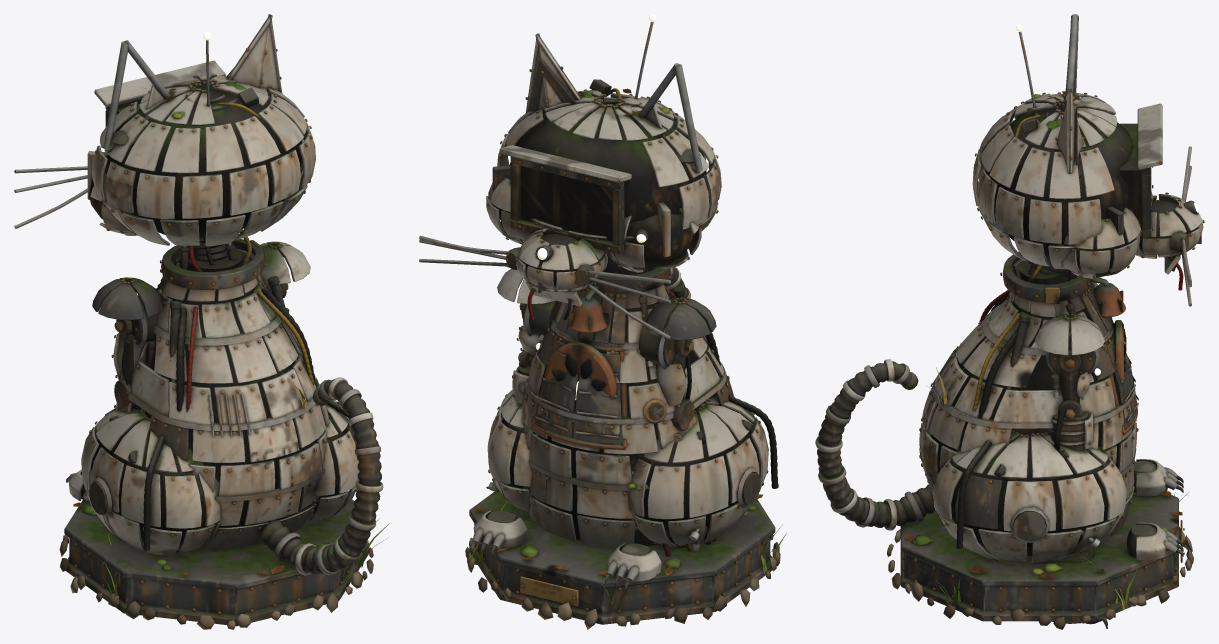
File: boss_beckoner_hi.glb
3 renders of one model, left to right at view 1: azimuth 30°, elevation 25°; view 2: azimuth 150°, elevation 25°; view 3: azimuth 270°, elevation 25°, orthographic. The views are drawn at different scales.
Visible parts, largest first — view 1: base_m, body_m, head_m, plate0_m, plate1_m, beckonArm_m; view 2: base_m, head_m, body_m, coreDoorR_m, coin_m, plate0_m, coreDoorL_m, plate9_m, bell_m, plate2_m, plate1_m, plate8_m (+4 smaller); view 3: base_m, head_m, body_m, plate1_m, slamFore_m, bell_m, coreDoorL_m, slamArm_m, coin_m.
Part boxes in pixels (x1,y1,x2,y2): base_m: [59, 377, 389, 629]; body_m: [115, 229, 329, 549]; head_m: [14, 14, 315, 246]; plate0_m: [92, 277, 163, 320]; plate1_m: [260, 241, 310, 284]; beckonArm_m: [114, 319, 146, 384]; base_m: [465, 267, 786, 629]; head_m: [419, 14, 721, 339]; body_m: [521, 255, 752, 556]; coreDoorR_m: [573, 353, 622, 444]; coin_m: [545, 342, 616, 411]; plate0_m: [645, 297, 716, 340]; coreDoorL_m: [534, 339, 578, 437]; plate9_m: [577, 485, 634, 519]; bell_m: [568, 285, 608, 332]; plate2_m: [650, 363, 686, 407]; plate1_m: [497, 269, 555, 304]; plate8_m: [533, 470, 572, 511]; base_m: [815, 359, 1193, 629]; head_m: [972, 14, 1204, 306]; body_m: [919, 251, 1138, 539]; plate1_m: [1035, 313, 1104, 355]; slamFore_m: [1048, 400, 1089, 452]; bell_m: [1091, 277, 1125, 317]; coreDoorL_m: [1107, 332, 1138, 428]; slamArm_m: [1057, 350, 1081, 401]; coin_m: [1114, 320, 1126, 403].
Size of the model in its own units: 1.23 by 2.43 by 1.55.
Materials: 2 (1 with a texture image).
